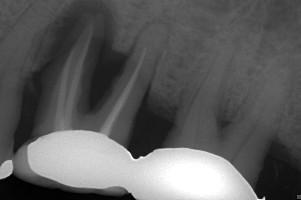Dental Caries: (45, 0, 132, 112)
Endo-Periodontal Lesion: (219, 119, 231, 129)
